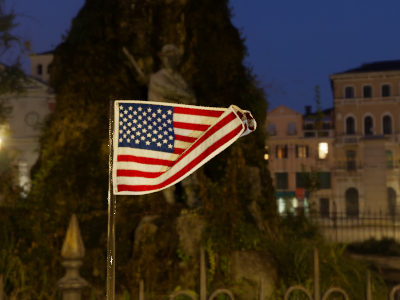America flag: (114, 100, 258, 196)
